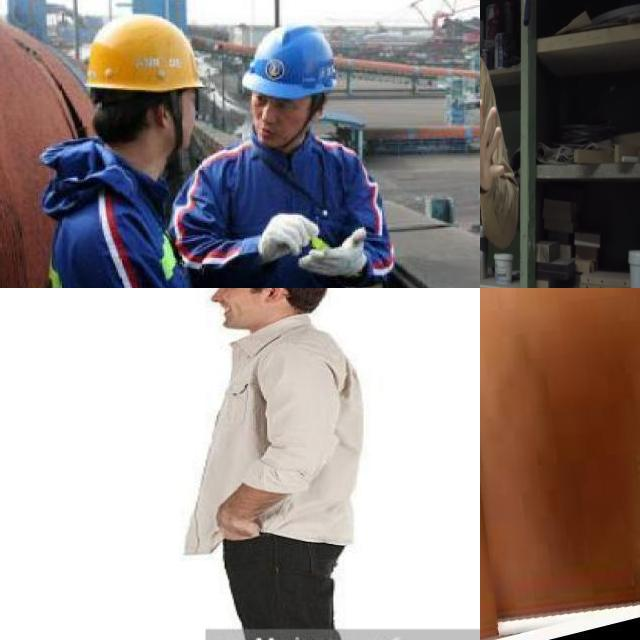Barefoots: (480, 288, 640, 634)
No_Ear-Protection: (261, 288, 289, 310)
face_nomask: (252, 94, 305, 147), (200, 290, 250, 331)
hand_glove: (296, 223, 368, 278), (258, 208, 320, 264)
head_helmet: (80, 12, 210, 96), (240, 21, 342, 102)
person: (180, 288, 367, 640), (184, 17, 390, 288), (36, 19, 225, 288), (480, 0, 524, 288)
